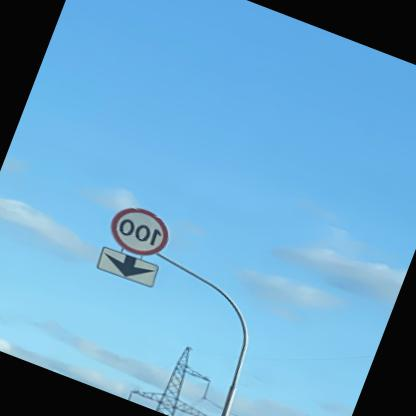speedlimit: (107, 198, 180, 263)
